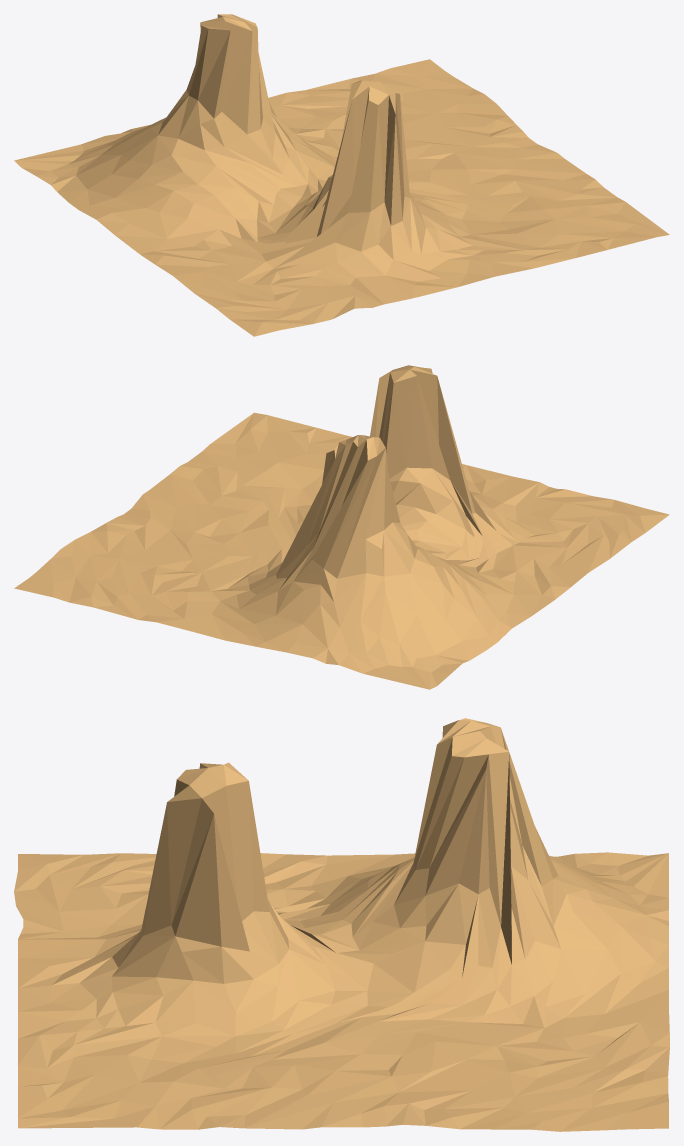
Rendered from landscape.03.fbx.
The picture shows the model from 3 angles, top to bottom: view 1: azimuth 30°, elevation 25°; view 2: azimuth 150°, elevation 25°; view 3: azimuth 270°, elevation 25°; orthographic projection. The views are drawn at different scales.
Parts seen in each view (by area): view 1: landscape.03; view 2: landscape.03; view 3: landscape.03.
Boxes of the visible parts, x1,y1,x2,y2 form: landscape.03: [14, 14, 669, 336]; landscape.03: [14, 365, 669, 689]; landscape.03: [14, 718, 669, 1131].
Bounding box in the file's own units: 3407 × 1308 × 3386.
